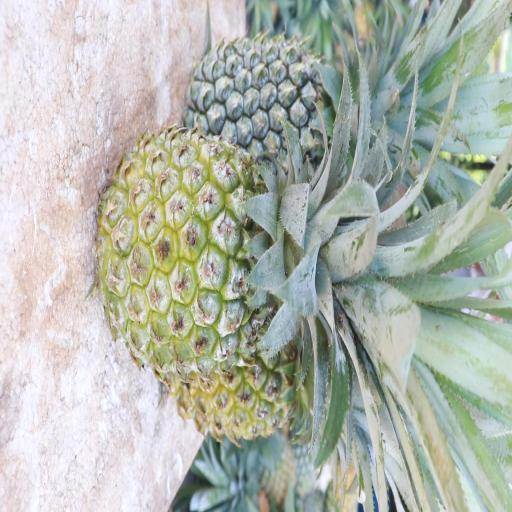------------------------------: (95, 88, 359, 346)
Pineapple - v8 v1: (161, 263, 392, 443)
